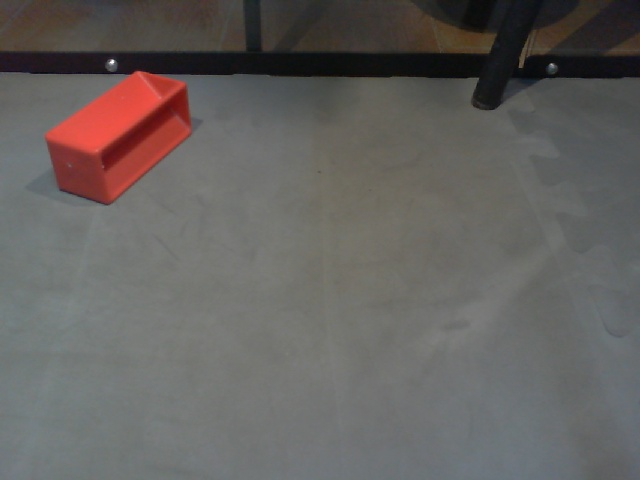RedSample: (42, 68, 193, 208)
